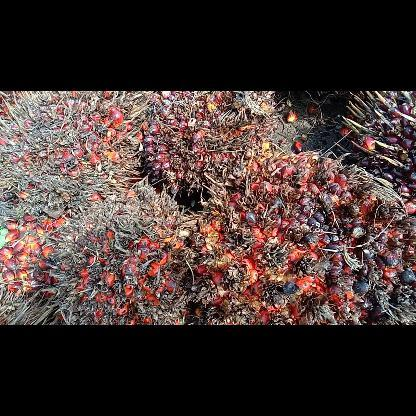Terlalu masak: (193, 144, 415, 324), (37, 174, 201, 324), (0, 91, 149, 220), (121, 91, 284, 201)
